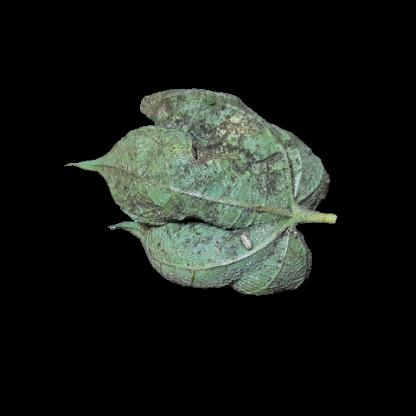curl_stage2: (254, 194, 297, 243), (236, 249, 279, 293), (176, 251, 226, 281)
sooty: (162, 107, 271, 189), (158, 185, 244, 250), (111, 142, 150, 204), (274, 138, 316, 191)
